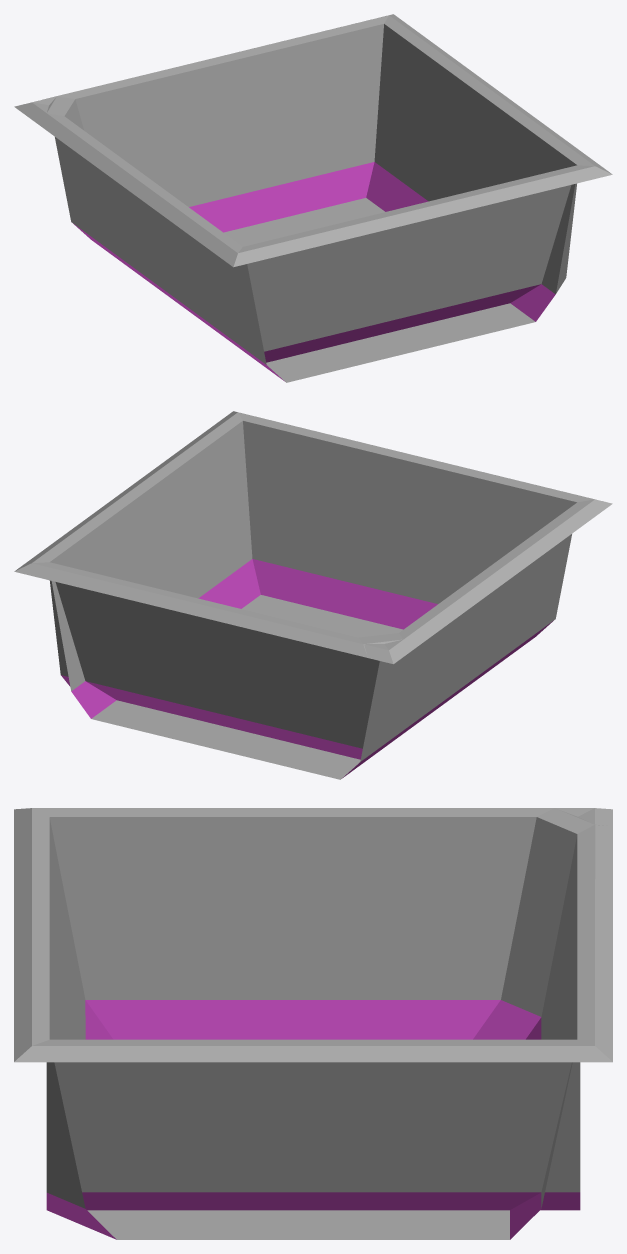
Rendered from tileWay.fbx.
The picture shows the model from 3 angles, top to bottom: view 1: azimuth 30°, elevation 25°; view 2: azimuth 150°, elevation 25°; view 3: azimuth 270°, elevation 25°; orthographic projection. The views are drawn at different scales.
Parts seen in each view (by area): view 1: open1, curve, closed, open2; view 2: closed, open1, open2, curve; view 3: open1, open2, closed, curve.
Boxes of the visible parts, x1,y1,x2,y2 form: open1: [14, 14, 589, 382]; curve: [39, 19, 576, 381]; closed: [16, 15, 612, 362]; open2: [33, 19, 600, 295]; closed: [18, 411, 612, 758]; open1: [14, 416, 600, 759]; open2: [26, 416, 588, 779]; curve: [40, 504, 596, 754]; open1: [46, 808, 612, 1210]; open2: [46, 808, 580, 1210]; closed: [14, 808, 607, 1210]; curve: [46, 808, 612, 1239].
Bounding box in the file's own units: 112 × 41.38 × 112.
